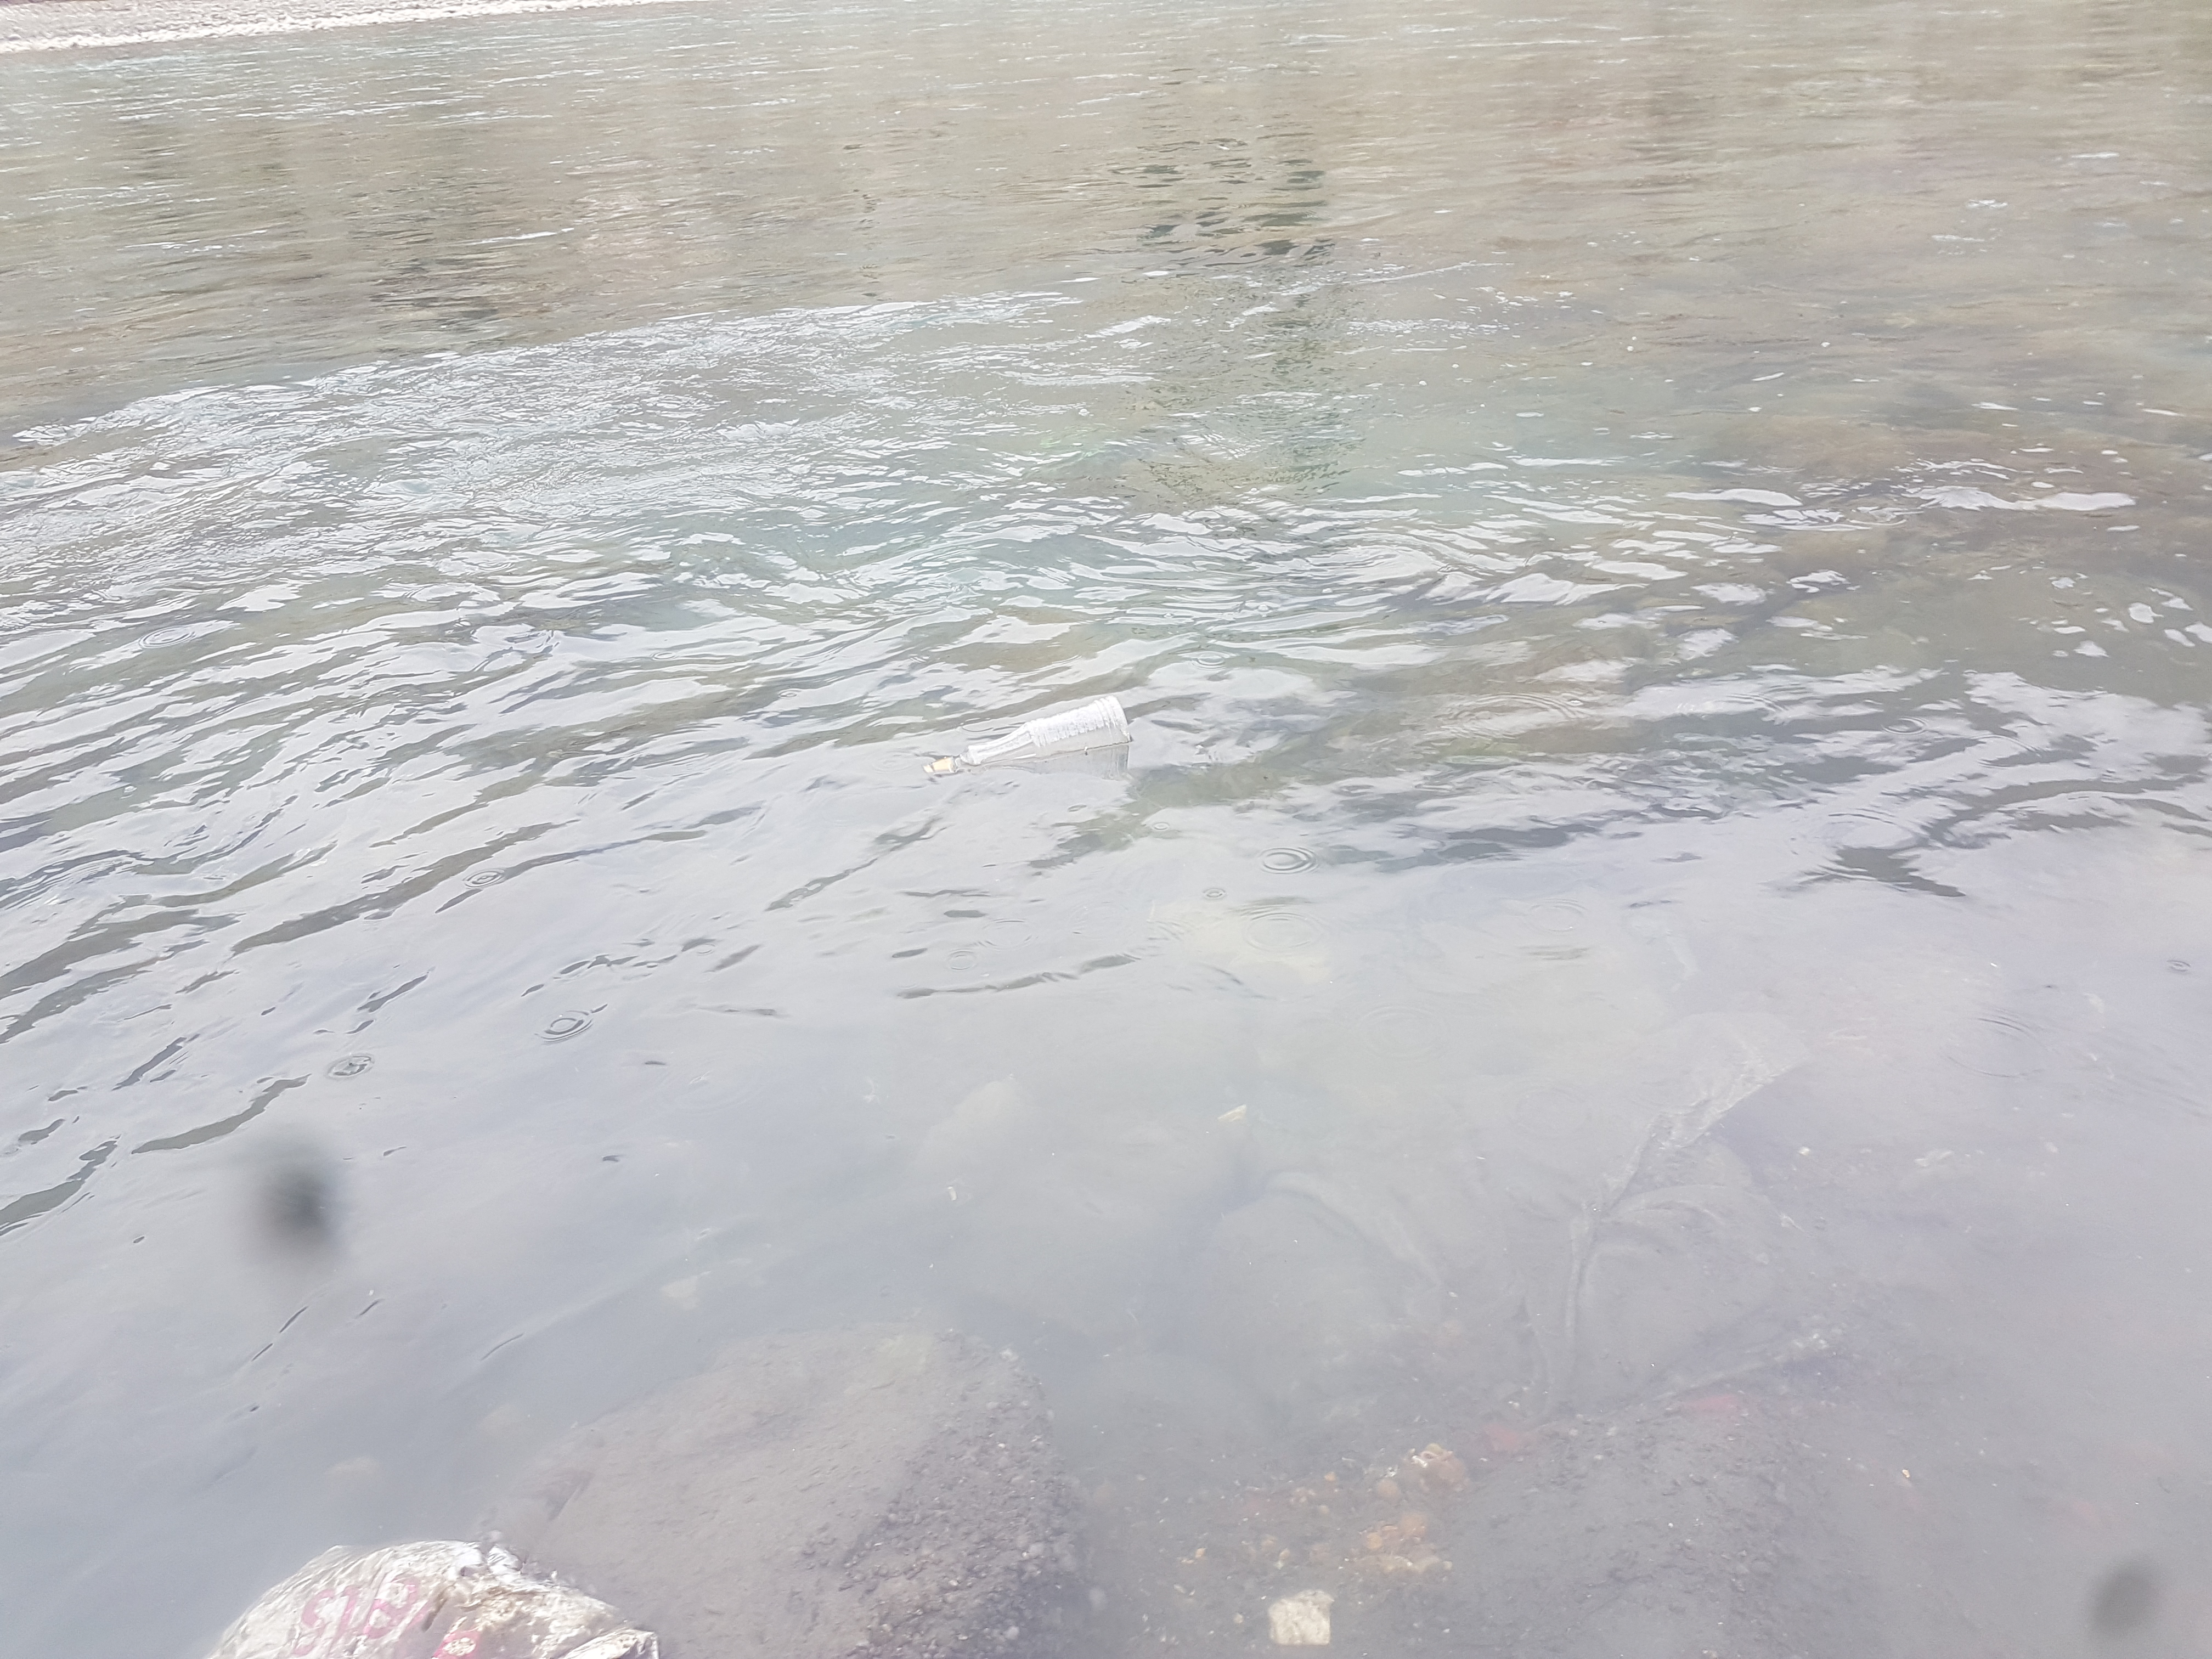Plastic Bottle: (930, 695, 1130, 772)
